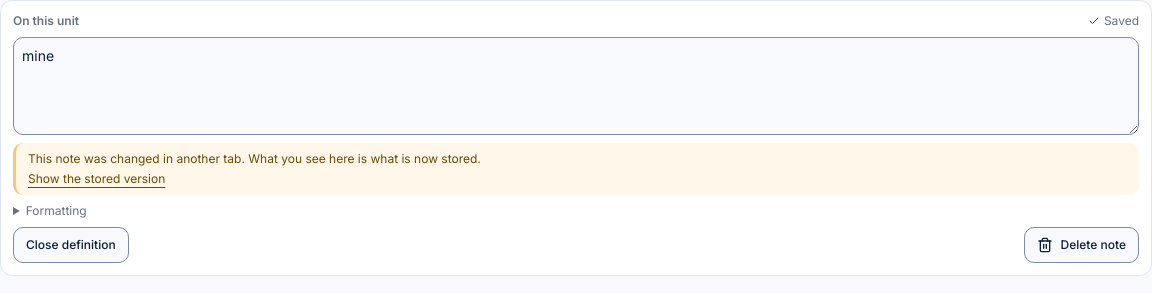
NoteEditor › offers the stored version, and shows it when asked
Click the button "Show the stored version" at (97, 179), box [28,171,165,187]
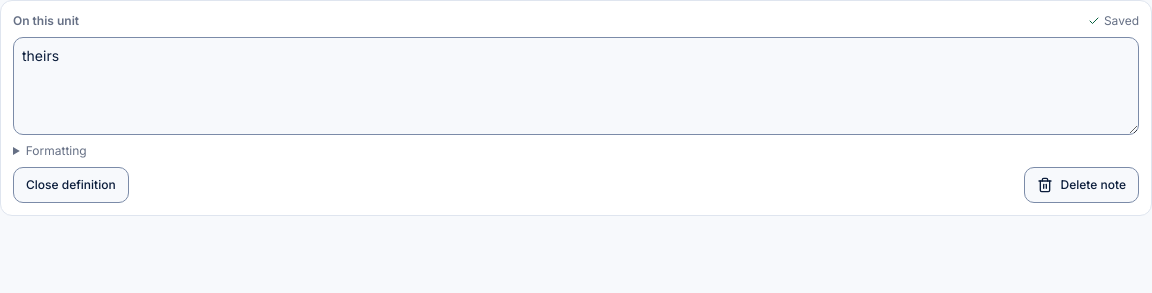
Result: the text box holds "theirs" at [13,37,1139,135]
